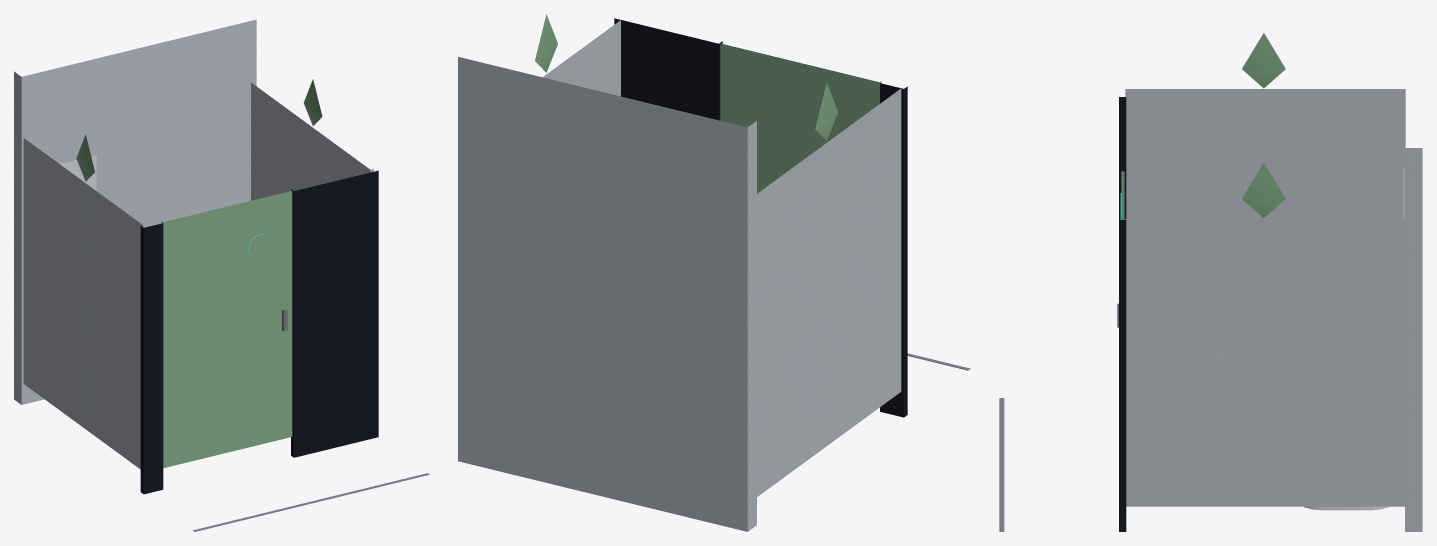
Rendered from accessible.glb.
The picture shows the model from 3 angles, left to right: view 1: azimuth 30°, elevation 25°; view 2: azimuth 150°, elevation 25°; view 3: azimuth 270°, elevation 25°; orthographic projection. The views are drawn at different scales.
Parts seen in each view (by area): view 1: Wet_Wall, Partitions, Stall_Door, Pilasters, Leaf_Crests, Aisle_Centre_Strip; view 2: Wet_Wall, Partitions, Stall_Door, Pilasters, Leaf_Crests; view 3: Partitions, Wet_Wall, Pilasters, Leaf_Crests, Aisle_Centre_Strip.
Boxes of the visible parts, x1=… form: Wet_Wall: x1=14, y1=19, x2=256, y2=404; Partitions: x1=23, y1=82, x2=373, y2=469; Stall_Door: x1=161, y1=191, x2=292, y2=468; Pilasters: x1=140, y1=170, x2=378, y2=494; Leaf_Crests: x1=76, y1=79, x2=322, y2=181; Aisle_Centre_Strip: x1=193, y1=473, x2=429, y2=531; Wet_Wall: x1=458, y1=57, x2=756, y2=531; Partitions: x1=543, y1=20, x2=901, y2=496; Stall_Door: x1=720, y1=43, x2=881, y2=193; Pilasters: x1=614, y1=18, x2=907, y2=417; Leaf_Crests: x1=535, y1=14, x2=838, y2=140; Partitions: x1=1125, y1=89, x2=1405, y2=506; Wet_Wall: x1=1405, y1=148, x2=1422, y2=531; Pilasters: x1=1119, y1=97, x2=1126, y2=531; Leaf_Crests: x1=1242, y1=33, x2=1285, y2=217; Aisle_Centre_Strip: x1=999, y1=398, x2=1004, y2=531.
Size of the model in its own units: 1.8 by 2.4 by 2.4.
Materials: 10 (3 with a texture image).
